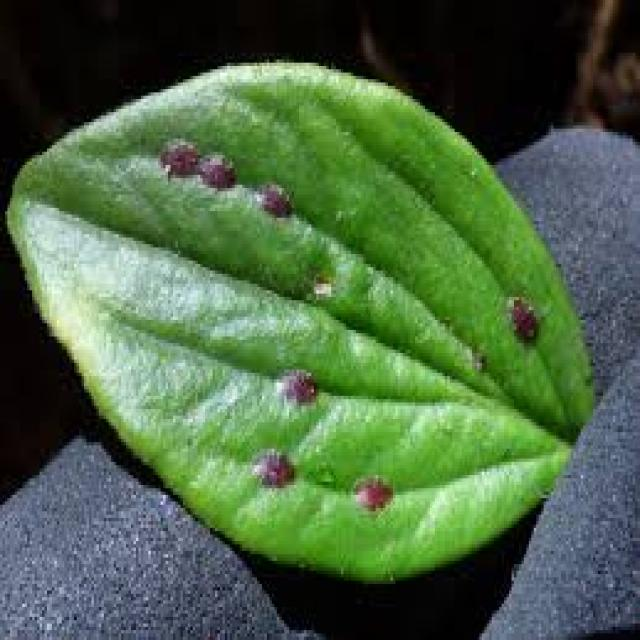scale_insect: (242, 435, 304, 495), (264, 356, 326, 409), (499, 277, 544, 347), (150, 126, 202, 182), (247, 165, 294, 224), (343, 462, 393, 514), (193, 138, 237, 194)
